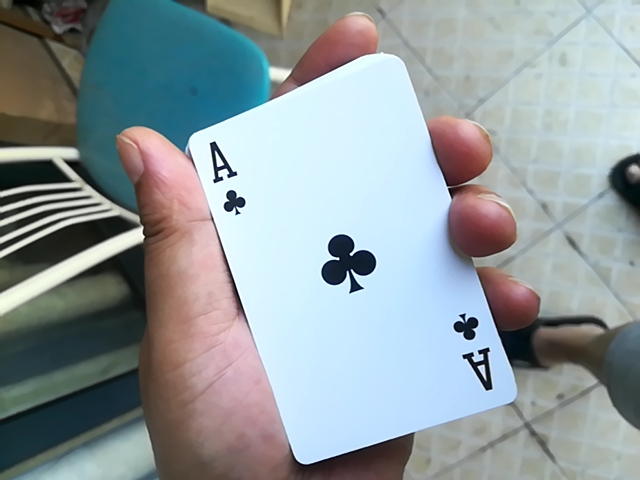mh a: (168, 39, 500, 472)
